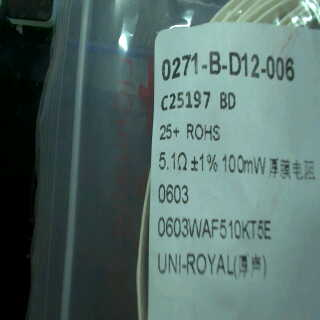5.1R: (154, 144, 189, 179)
